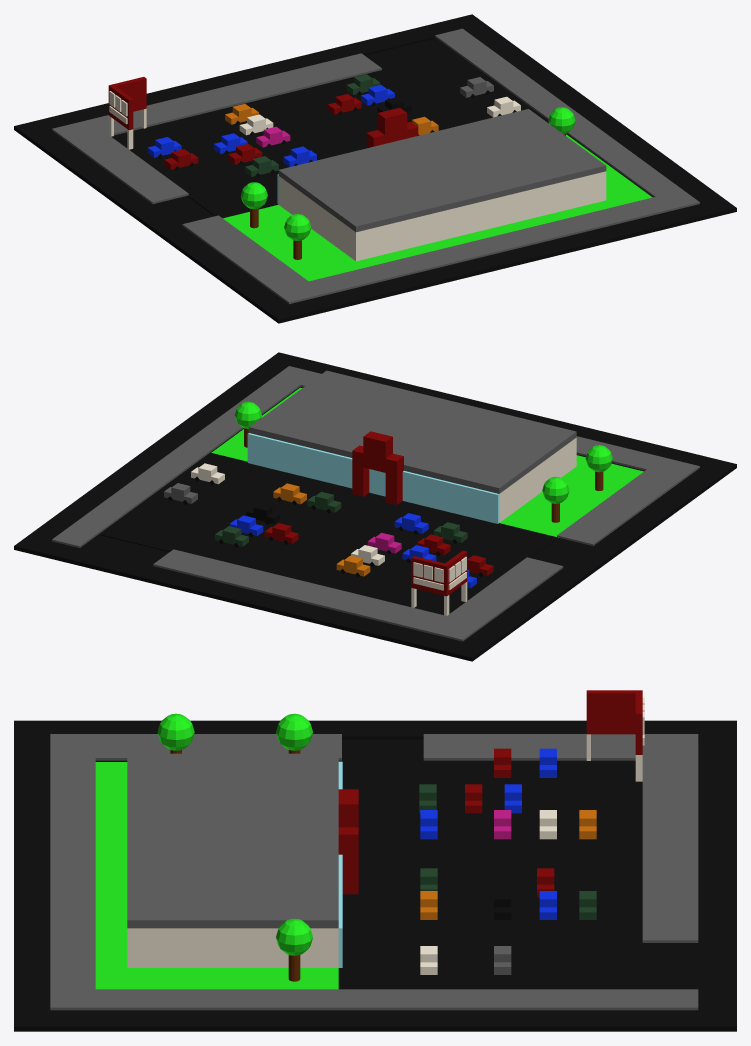
The model's file is grocerystore.FBX.
The picture shows the model from 3 angles, top to bottom: view 1: azimuth 30°, elevation 25°; view 2: azimuth 150°, elevation 25°; view 3: azimuth 270°, elevation 25°; orthographic projection. The views are drawn at different scales.
Visible parts, largest first — view 1: Layer:street, Layer:bldgconcrete, Layer:water, Layer:0, Layer:greenery, Layer:red, Layer:bluegouse, Layer:white, Layer:dumpster, Layer:rowhouse4; view 2: Layer:street, Layer:bldgconcrete, Layer:water, Layer:windows, Layer:greenery, Layer:red, Layer:0, Layer:dumpster, Layer:bluegouse, Layer:rowhouse4, Layer:white; view 3: Layer:street, Layer:bldgconcrete, Layer:water, Layer:greenery, Layer:0, Layer:red, Layer:bluegouse, Layer:dumpster, Layer:rowhouse4, Layer:white, Layer:windows.
Part boxes in pixels (<box>): Layer:street: <box>14,14,736,323</box>; Layer:bldgconcrete: <box>52,28,699,304</box>; Layer:water: <box>278,109,606,232</box>; Layer:0: <box>108,91,606,261</box>; Layer:greenery: <box>223,107,652,281</box>; Layer:red: <box>108,77,418,169</box>; Layer:bluegouse: <box>147,85,394,166</box>; Layer:white: <box>239,96,520,135</box>; Layer:dumpster: <box>245,74,380,176</box>; Layer:rowhouse4: <box>225,104,438,135</box>; Layer:street: <box>14,352,736,661</box>; Layer:bldgconcrete: <box>52,366,699,641</box>; Layer:water: <box>249,370,576,493</box>; Layer:windows: <box>247,433,499,523</box>; Layer:greenery: <box>211,387,643,537</box>; Layer:red: <box>264,431,493,596</box>; Layer:0: <box>411,437,576,615</box>; Layer:dumpster: <box>215,491,467,546</box>; Layer:bluegouse: <box>229,513,476,588</box>; Layer:rowhouse4: <box>273,483,370,576</box>; Layer:white: <box>191,463,384,565</box>; Layer:street: <box>14,720,736,1031</box>; Layer:bldgconcrete: <box>50,734,698,1010</box>; Layer:water: <box>127,753,338,928</box>; Layer:greenery: <box>95,713,338,989</box>; Layer:0: <box>127,697,644,967</box>; Layer:red: <box>338,690,642,897</box>; Layer:bluegouse: <box>420,748,556,919</box>; Layer:dumpster: <box>419,784,596,919</box>; Layer:rowhouse4: <box>420,810,596,919</box>; Layer:white: <box>420,810,556,974</box>; Layer:windows: <box>338,761,342,967</box>.
Size of the model in its own units: 250 by 33.02 by 250.
